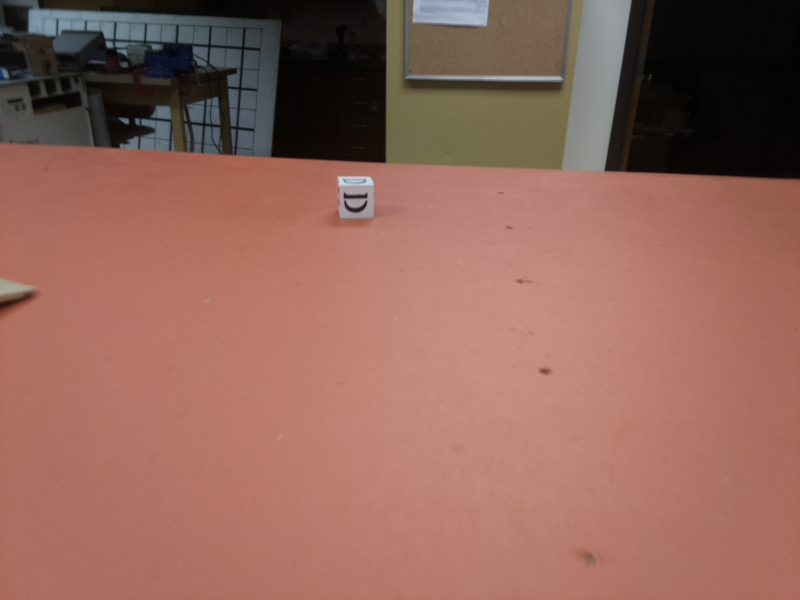blockD: (331, 173, 377, 219)
slope: (1, 276, 39, 308)
